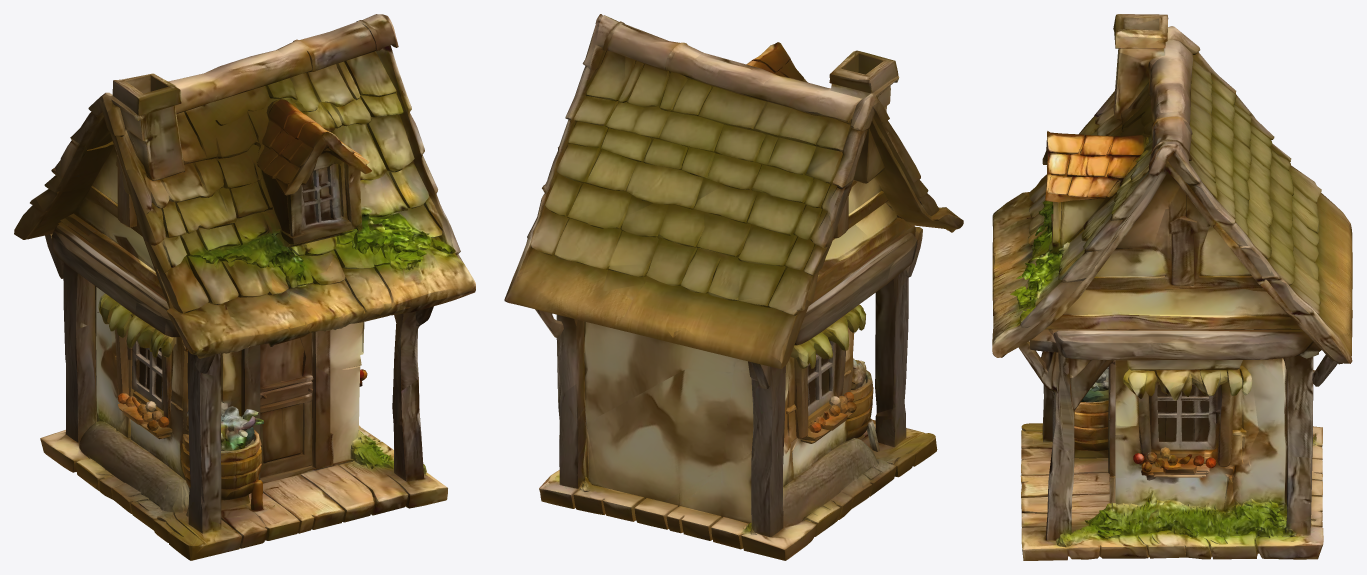
3 renders of one model, left to right at view 1: azimuth 30°, elevation 25°; view 2: azimuth 150°, elevation 25°; view 3: azimuth 270°, elevation 25°, orthographic.
Visible parts, largest first — view 1: model; view 2: model; view 3: model.
Boxes of the visible parts, x1,y1,x2,y2 form: model: (14,14,475,560); model: (504,14,963,560); model: (992,14,1352,560).
Size of the model in its own units: 1.32 by 1.9 by 1.46.
1 material, 1 textured.
